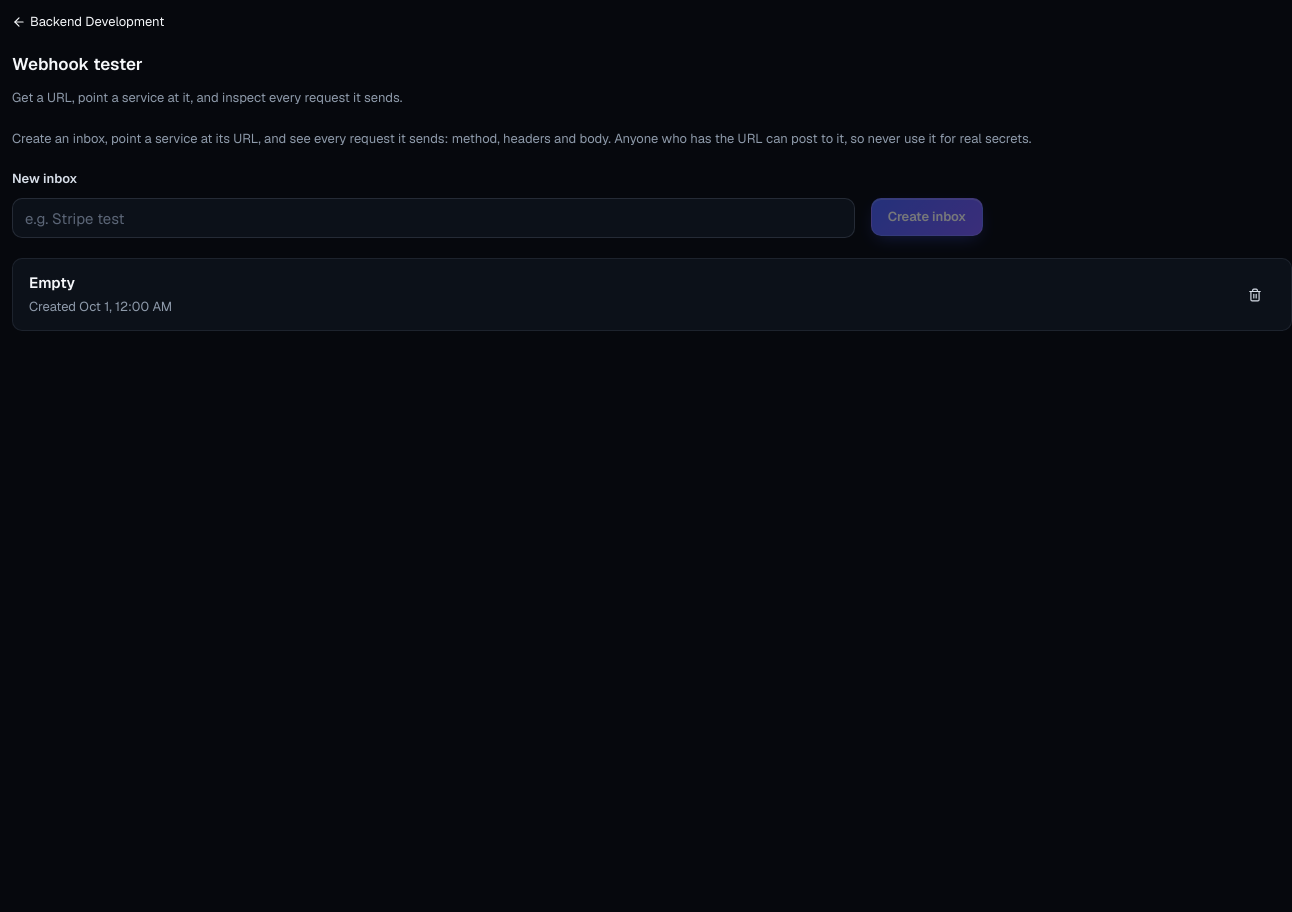
Test: webhook tester › explains an empty inbox, including the deploy flag people forget
The image size is (1292, 912).
Click the button "Empty Created Oct 1, 12:00 AM". click: (52,283)
box: [29,271,1219,318]
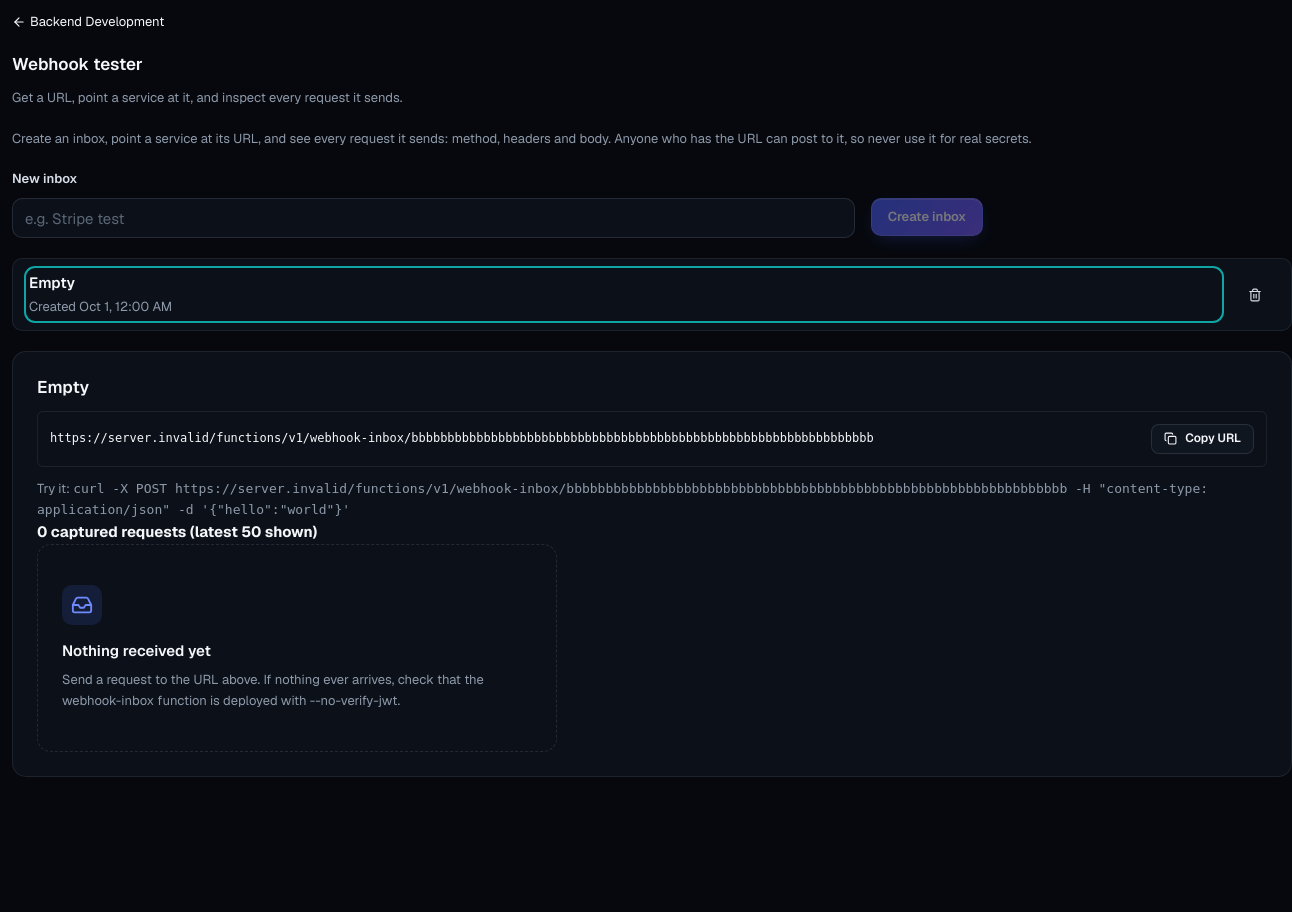
Now the heading "Nothing received yet" is shown, box [62,642,211,662]
Now the text "--no-verify-jwt" is shown, box [62,671,484,708]
